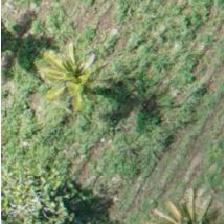Kelapa_Sawit: (33, 34, 123, 124)
